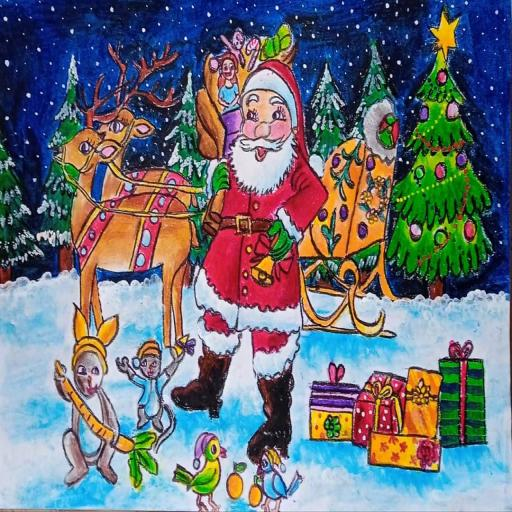person: (182, 58, 327, 453), (210, 49, 243, 151)
